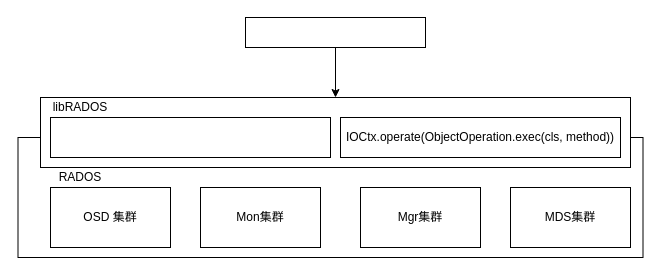
Some shapes in this 660 by 275 pixel diagram are drawn without their labels. The centre of each missing label's shape, as x and y in pixels:
"IOCtx.exec(cls, method)" goes at (190,137).
"上层应用" goes at (335,32).
